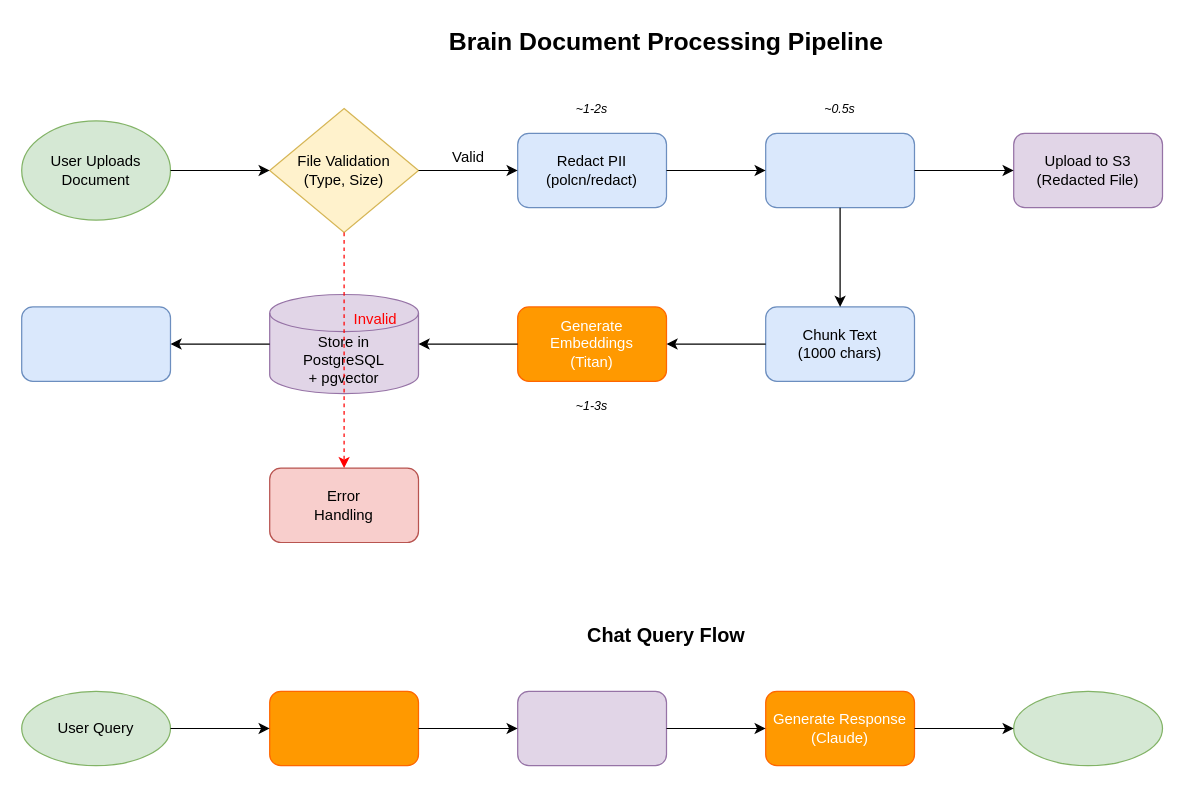
Image size: 1184x787. Some labels were removed from this diagram. The centre of each missing label's shape, as x and y in pixels:
"Extract Text (PDF, TXT, DOCX)" belongs at (x=839, y=170).
"Generate Query Embedding" belongs at (x=343, y=728).
"Return Response with Sources" belongs at (x=1087, y=728).
"Update Document Status" belongs at (x=95, y=343).
"Vector Search (pgvector)" belongs at (x=591, y=728).
